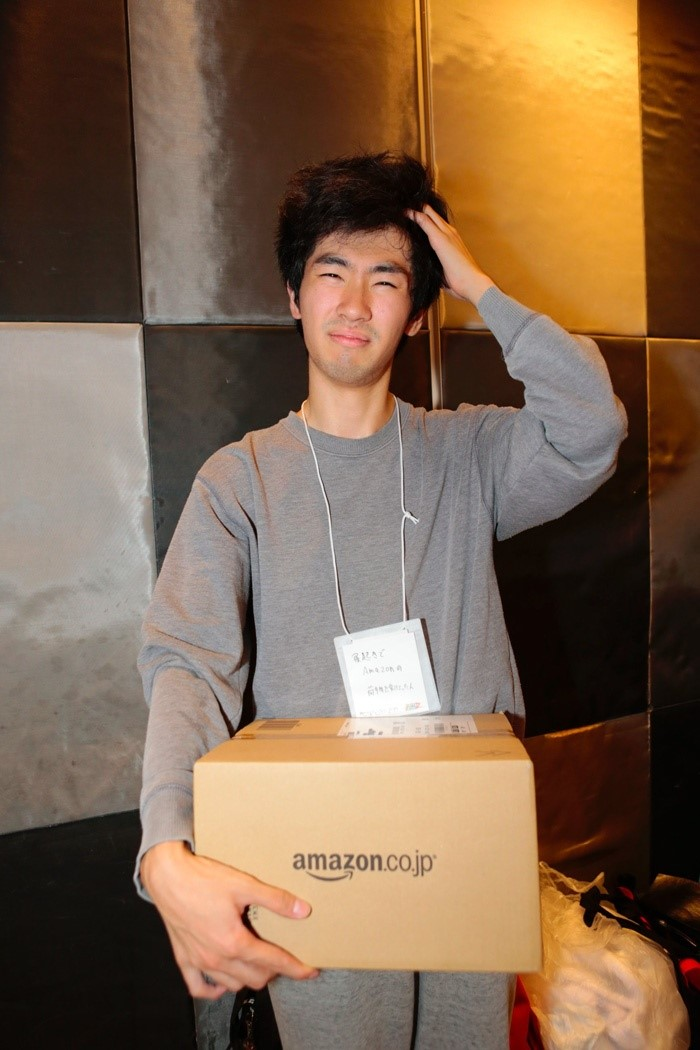face_no_mask: (287, 153, 444, 383)
